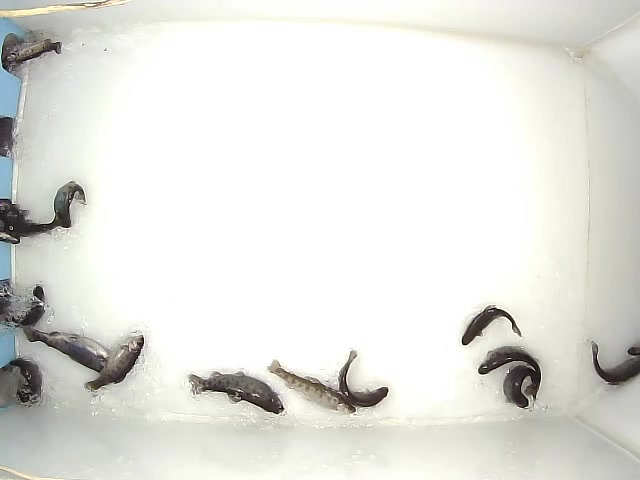fish: (21, 326, 125, 384), (266, 358, 357, 416), (185, 370, 284, 416), (84, 333, 146, 393), (478, 345, 543, 402), (336, 348, 390, 408), (461, 303, 524, 346), (590, 339, 640, 386), (1, 284, 47, 328), (53, 180, 88, 230), (503, 364, 539, 409)
